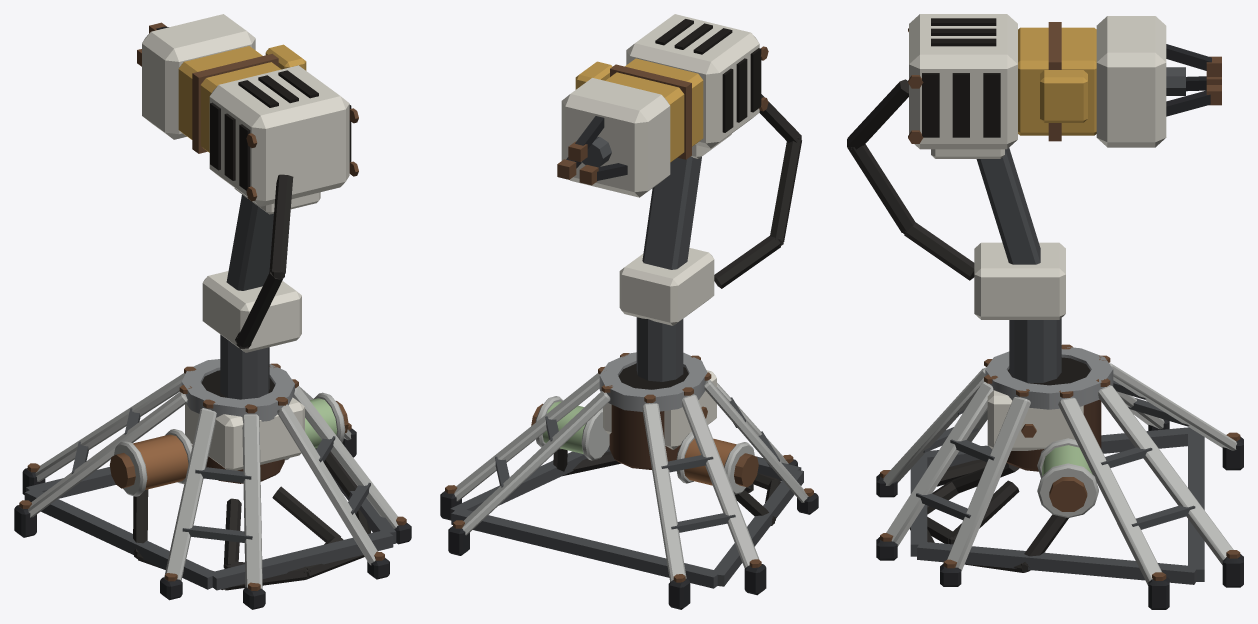
Rendered from laser-turret.glb.
3 views of the same model, side by side, from view 1: azimuth 30°, elevation 25°; view 2: azimuth 150°, elevation 25°; view 3: azimuth 270°, elevation 25° (orthographic). The views are drawn at different scales.
Parts seen in each view (by area): view 1: anim_turret_head, body; view 2: anim_turret_head, body; view 3: anim_turret_head, body.
Part boxes in pixels (box(x1,y1,x2,y2)): anim_turret_head: box(137, 14, 358, 470); body: box(14, 359, 411, 609); anim_turret_head: box(557, 14, 801, 449); body: box(440, 352, 818, 609); anim_turret_head: box(847, 14, 1221, 450); body: box(876, 344, 1243, 609).
Bounding box in the file's own units: 1.85 × 2.5 × 1.82.
